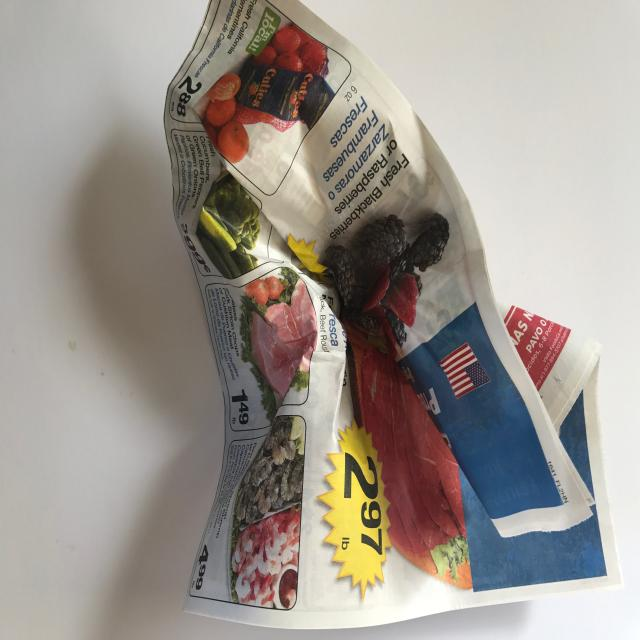paper: (163, 0, 622, 629)
